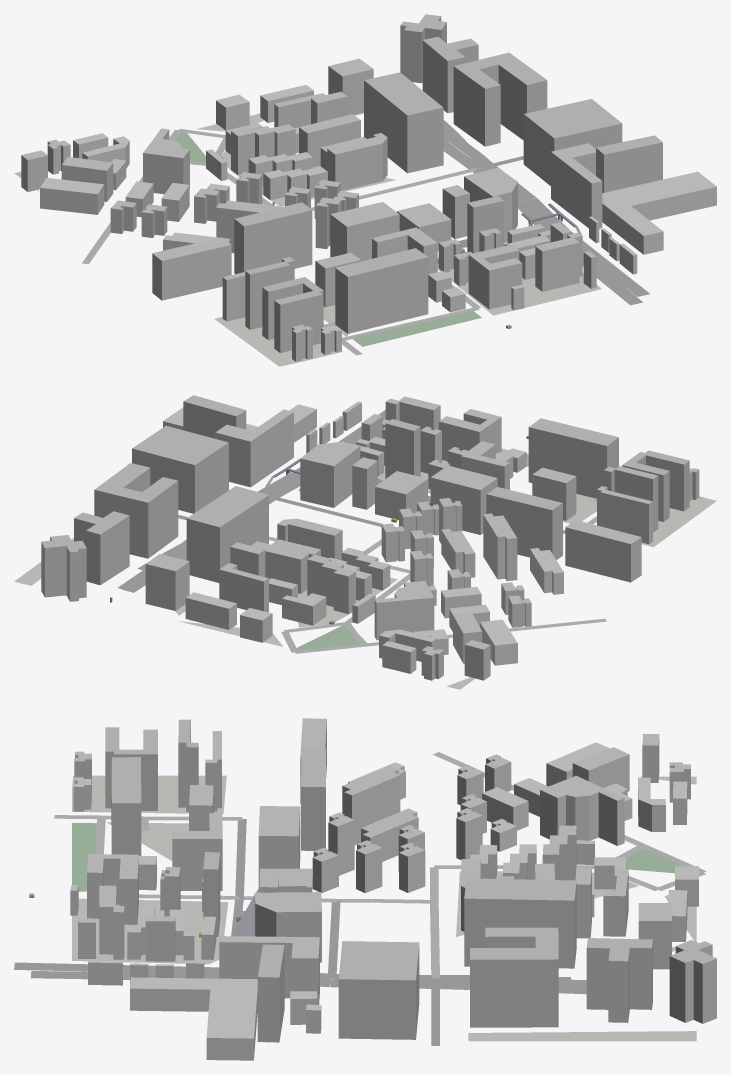
The picture shows the model from 3 angles, top to bottom: view 1: azimuth 30°, elevation 25°; view 2: azimuth 150°, elevation 25°; view 3: azimuth 270°, elevation 25°; orthographic projection. The views are drawn at different scales.
Size of the model in its own units: 583 by 66.45 by 563.
